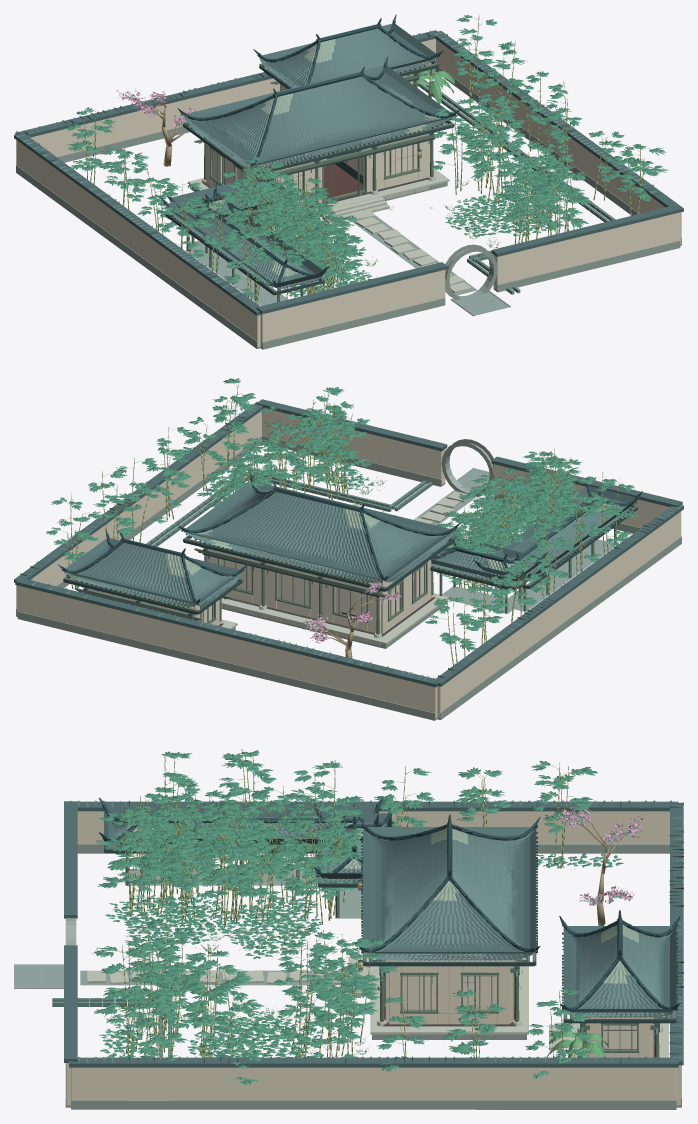
The model's file is xiaoxiangguan.glb.
3 views of the same model, one above another, from view 1: azimuth 30°, elevation 25°; view 2: azimuth 150°, elevation 25°; view 3: azimuth 270°, elevation 25° (orthographic). The views are drawn at different scales.
Parts seen in each view (by area): view 1: Mobile_xiaoxiangguan_botanical_bamboo, r15_xiaoxiangguan_Sunwen_r18_bamboo_plaster.003, r15_xiaoxiangguan_Sunwen_r18_bamboo_roof.001, r15_xiaoxiangguan_Sunwen_r18_bamboo_tile.001, r15_xiaoxiangguan_Sunwen_r18_bamboo_stone.001, Mobile_xiaoxiangguan_botanical_stem, r15_xiaoxiangguan_Sunwen_r18_bamboo_wood.001, r15_xiaoxiangguan_Sunwen_r18_bamboo_tiledark.001, r15_xiaoxiangguan_Sunwen_r18_bamboo_cutstone.001, r15_xiaoxiangguan_Sunwen_r18_bamboo_darkwood.001, Mobile_xiaoxiangguan_paving, r15_xiaoxiangguan_Sunwen_r18_bamboo_plaster.002 (+7 smaller); view 2: r15_xiaoxiangguan_Sunwen_r18_bamboo_plaster.003, Mobile_xiaoxiangguan_botanical_bamboo, r15_xiaoxiangguan_Sunwen_r18_bamboo_roof.001, r15_xiaoxiangguan_Sunwen_r18_bamboo_tile.001, r15_xiaoxiangguan_Sunwen_r18_bamboo_stone.001, Mobile_xiaoxiangguan_botanical_stem, r15_xiaoxiangguan_Sunwen_r18_bamboo_wood.001, r15_xiaoxiangguan_Sunwen_r18_bamboo_plaster.002, r15_xiaoxiangguan_Sunwen_r18_bamboo_tiledark.001, r15_xiaoxiangguan_Sunwen_r18_bamboo_darkwood.001, r15_xiaoxiangguan_Sunwen_r18_bamboo_cutstone.001, Mobile_xiaoxiangguan_paving (+5 smaller); view 3: Mobile_xiaoxiangguan_botanical_bamboo, r15_xiaoxiangguan_Sunwen_r18_bamboo_roof.001, r15_xiaoxiangguan_Sunwen_r18_bamboo_plaster.003, r15_xiaoxiangguan_Sunwen_r18_bamboo_tile.001, Mobile_xiaoxiangguan_botanical_stem, r15_xiaoxiangguan_Sunwen_r18_bamboo_stone.001, r15_xiaoxiangguan_Sunwen_r18_bamboo_tiledark.001, r15_xiaoxiangguan_Sunwen_r18_bamboo_plaster.002, r15_xiaoxiangguan_Sunwen_r18_bamboo_cutstone.001, Mobile_xiaoxiangguan_paving, r15_xiaoxiangguan_Sunwen_r18_bamboo_wood.001, r15_xiaoxiangguan_Sunwen_r18_bamboo_darkwood.001 (+6 smaller).
Part boxes in pixels (x1,y1,x2,y2): Mobile_xiaoxiangguan_botanical_bamboo: (64, 15, 668, 297); r15_xiaoxiangguan_Sunwen_r18_bamboo_plaster.003: (16, 39, 681, 347); r15_xiaoxiangguan_Sunwen_r18_bamboo_roof.001: (14, 23, 683, 315); r15_xiaoxiangguan_Sunwen_r18_bamboo_tile.001: (16, 28, 676, 311); r15_xiaoxiangguan_Sunwen_r18_bamboo_stone.001: (16, 67, 681, 349); Mobile_xiaoxiangguan_botanical_stem: (78, 14, 649, 303); r15_xiaoxiangguan_Sunwen_r18_bamboo_wood.001: (168, 63, 453, 301); r15_xiaoxiangguan_Sunwen_r18_bamboo_tiledark.001: (160, 14, 459, 286); r15_xiaoxiangguan_Sunwen_r18_bamboo_cutstone.001: (188, 169, 471, 293); r15_xiaoxiangguan_Sunwen_r18_bamboo_darkwood.001: (165, 61, 454, 295); Mobile_xiaoxiangguan_paving: (185, 215, 509, 315); r15_xiaoxiangguan_Sunwen_r18_bamboo_plaster.002: (206, 67, 430, 210); r15_xiaoxiangguan_Sunwen_r18_bamboo_plaster.003: (16, 408, 681, 718); Mobile_xiaoxiangguan_botanical_bamboo: (46, 378, 639, 651); r15_xiaoxiangguan_Sunwen_r18_bamboo_roof.001: (14, 399, 683, 687); r15_xiaoxiangguan_Sunwen_r18_bamboo_tile.001: (20, 402, 683, 683); r15_xiaoxiangguan_Sunwen_r18_bamboo_stone.001: (16, 435, 681, 720); Mobile_xiaoxiangguan_botanical_stem: (63, 382, 622, 665); r15_xiaoxiangguan_Sunwen_r18_bamboo_wood.001: (64, 505, 637, 634); r15_xiaoxiangguan_Sunwen_r18_bamboo_plaster.002: (88, 542, 431, 633); r15_xiaoxiangguan_Sunwen_r18_bamboo_tiledark.001: (58, 472, 642, 607); r15_xiaoxiangguan_Sunwen_r18_bamboo_darkwood.001: (63, 505, 637, 636); r15_xiaoxiangguan_Sunwen_r18_bamboo_cutstone.001: (219, 491, 471, 646); Mobile_xiaoxiangguan_paving: (417, 468, 615, 613); Mobile_xiaoxiangguan_botanical_bamboo: (91, 750, 639, 1084); r15_xiaoxiangguan_Sunwen_r18_bamboo_roof.001: (64, 801, 683, 1067); r15_xiaoxiangguan_Sunwen_r18_bamboo_plaster.003: (66, 811, 681, 1105); r15_xiaoxiangguan_Sunwen_r18_bamboo_tile.001: (70, 800, 683, 1063); Mobile_xiaoxiangguan_botanical_stem: (108, 749, 604, 1060); r15_xiaoxiangguan_Sunwen_r18_bamboo_stone.001: (14, 844, 681, 1109); r15_xiaoxiangguan_Sunwen_r18_bamboo_tiledark.001: (99, 797, 680, 1011); r15_xiaoxiangguan_Sunwen_r18_bamboo_plaster.002: (385, 955, 653, 1057); r15_xiaoxiangguan_Sunwen_r18_bamboo_cutstone.001: (87, 953, 668, 1057); Mobile_xiaoxiangguan_paving: (14, 869, 362, 986); r15_xiaoxiangguan_Sunwen_r18_bamboo_wood.001: (105, 847, 675, 1057); r15_xiaoxiangguan_Sunwen_r18_bamboo_darkwood.001: (104, 825, 676, 1054).
Size of the model in its own units: 33.82 by 8.27 by 35.38.
